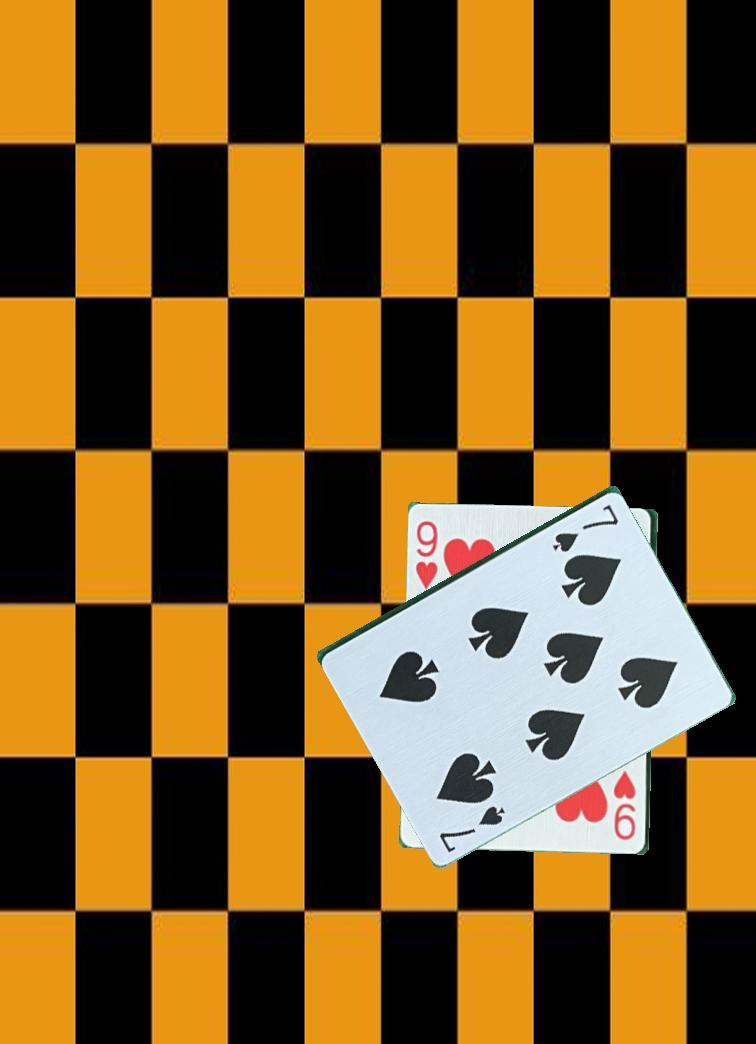7s: (548, 501, 621, 556), (435, 802, 508, 856)
9h: (412, 517, 442, 597), (612, 768, 639, 844)
